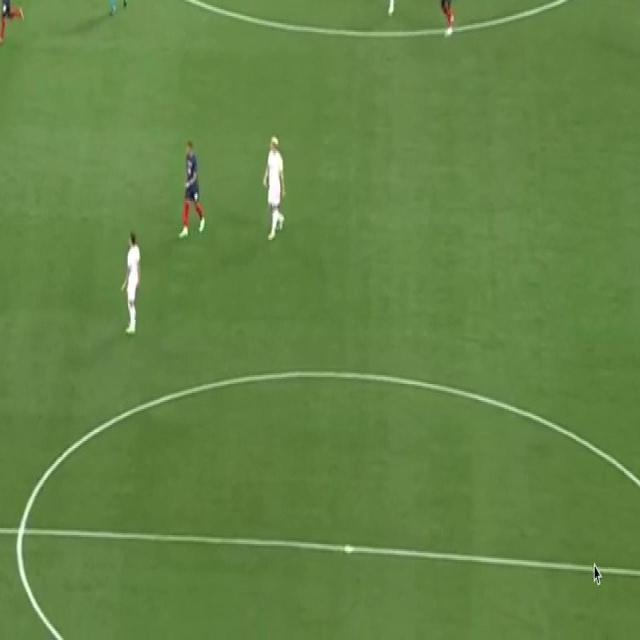player-white: (178, 139, 206, 240), (262, 134, 286, 243), (120, 229, 141, 335), (0, 0, 25, 42), (438, 0, 455, 36), (108, 0, 127, 16), (382, 0, 401, 14)
